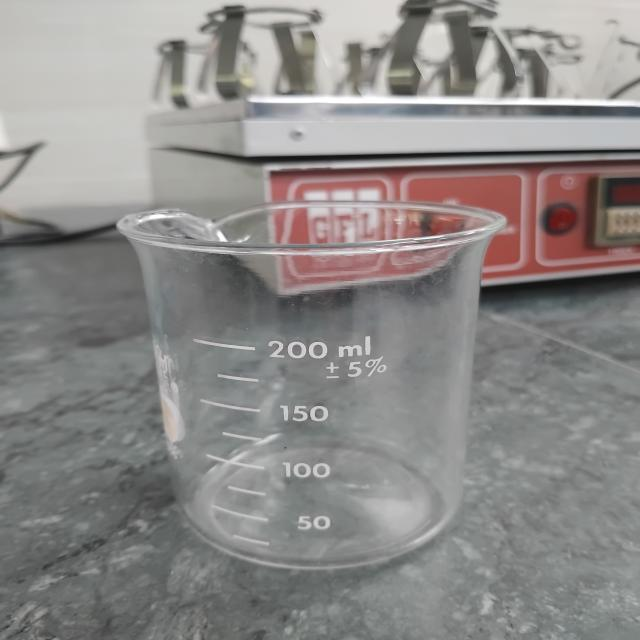Beaker: (111, 161, 528, 605)
